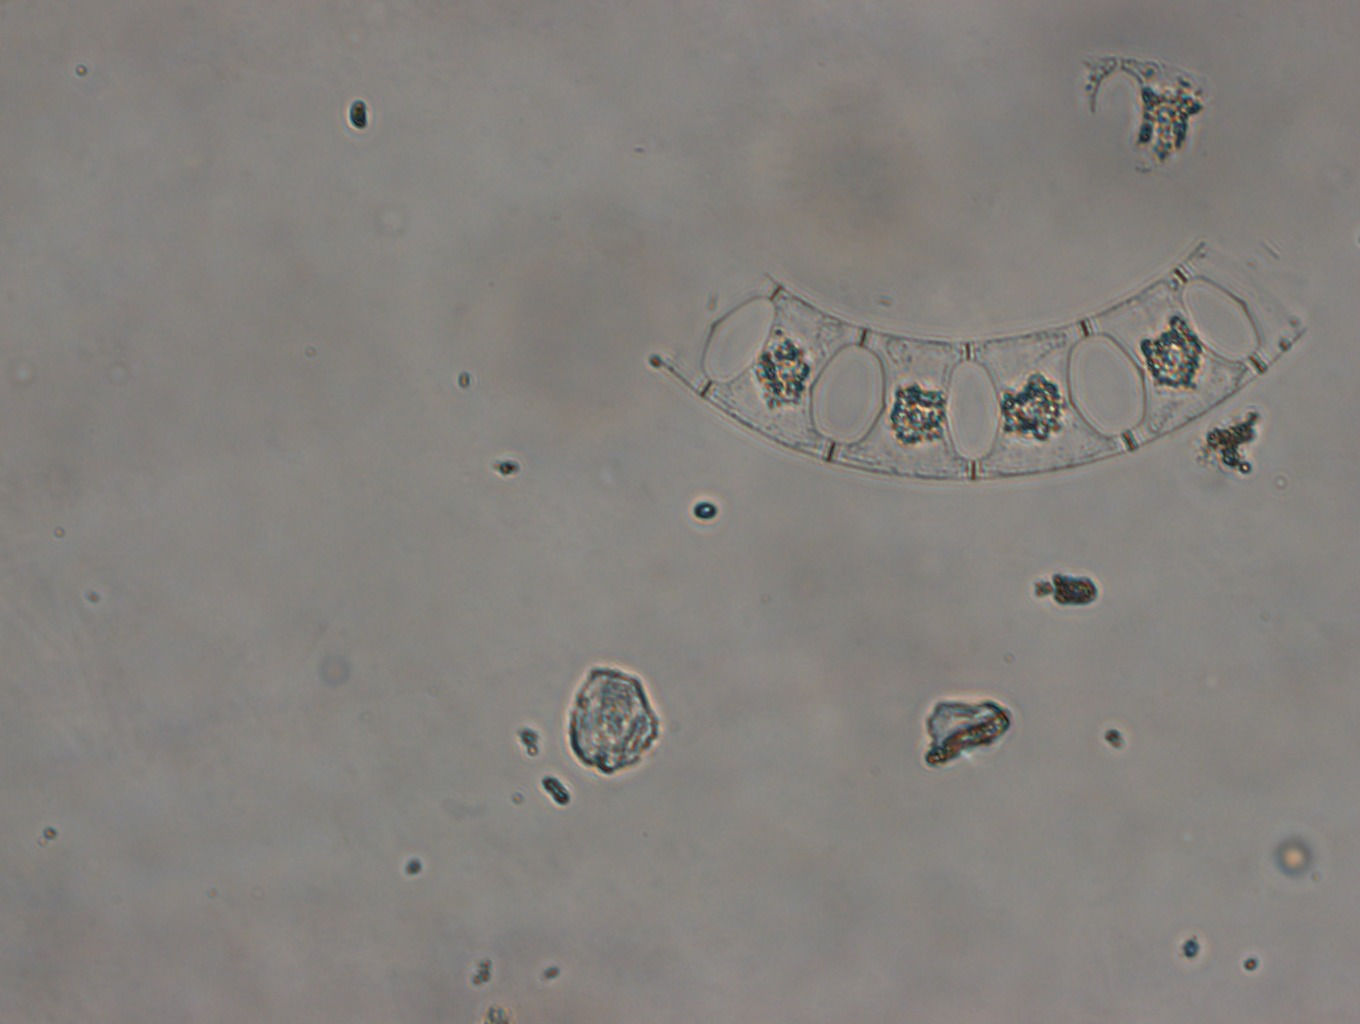eucampia: (675, 234, 1297, 488)
